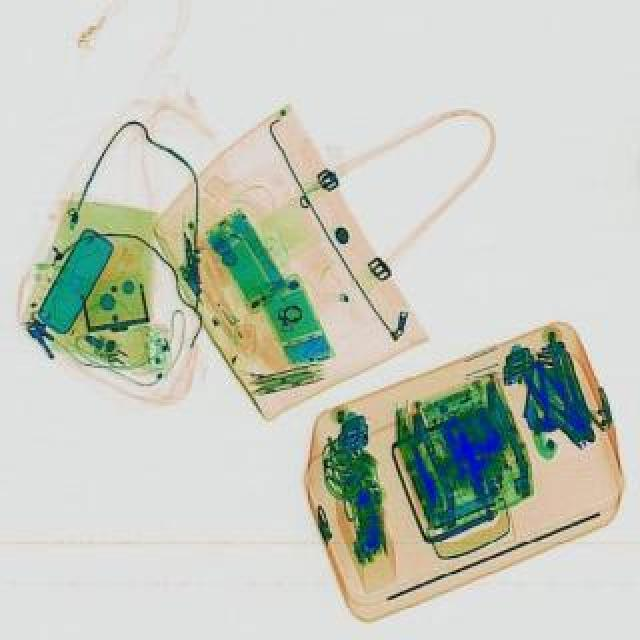wrench: (516, 360, 610, 452)
